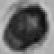correct: (2, 0, 51, 54)
